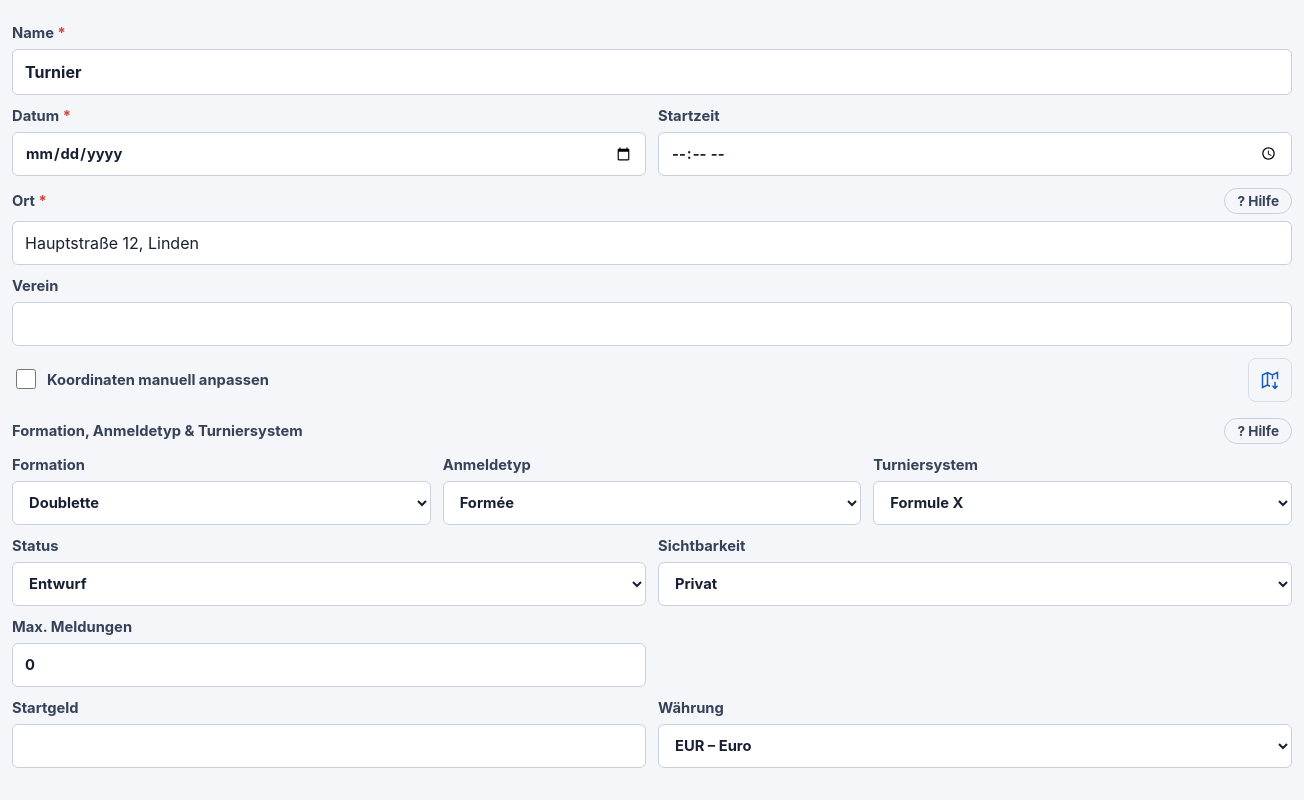
Test case: Turnierort in einem Suchfeld › übernimmt Platz und Koordinaten und löst die Auswahl bei neuer Eingabe (create)
This screenshot has width=1304, height=800.
Replace the text in the dropdown labelled "Ort *" with "Linden Halle" at (652, 243), box 12,221 -> 1292,265
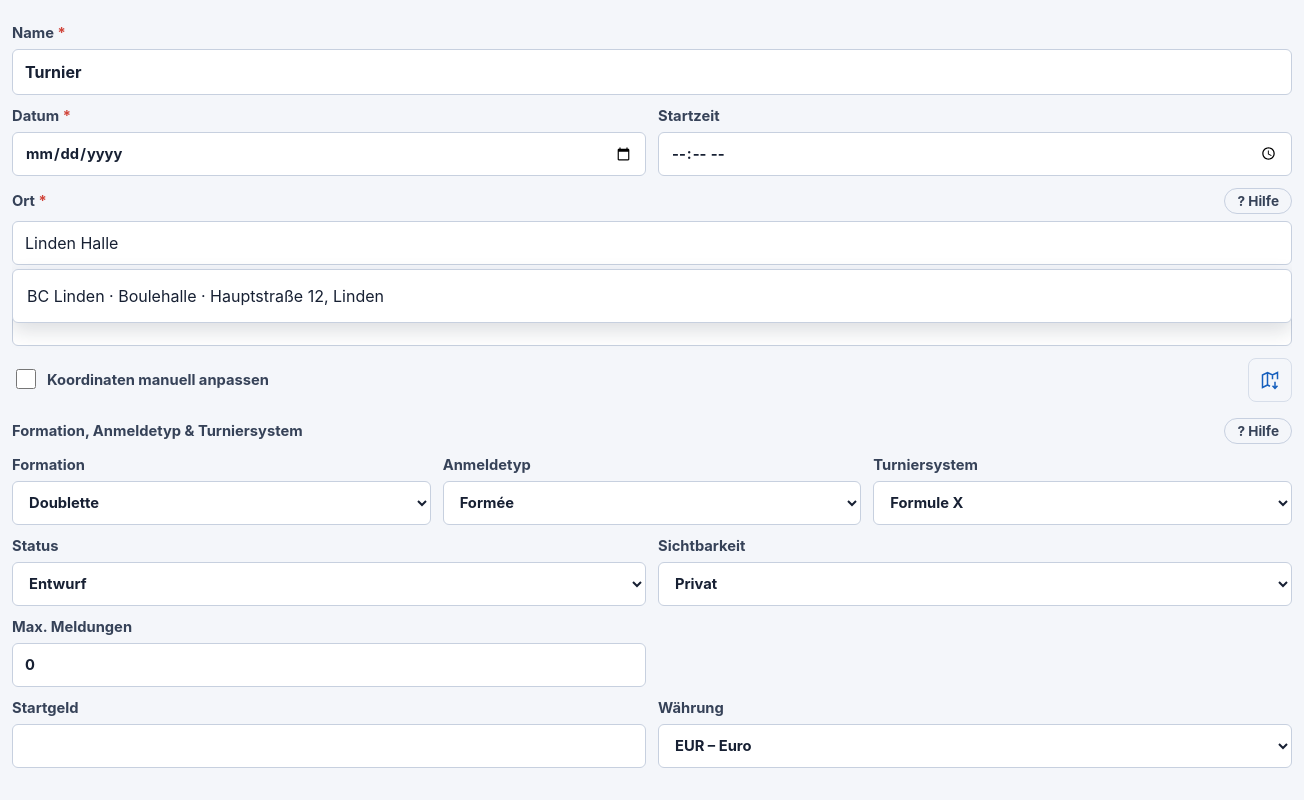
Click the option "BC Linden · Boulehalle · Hauptstraße 12, Linden".
click(206, 296)  # box 17,274 -> 1287,318
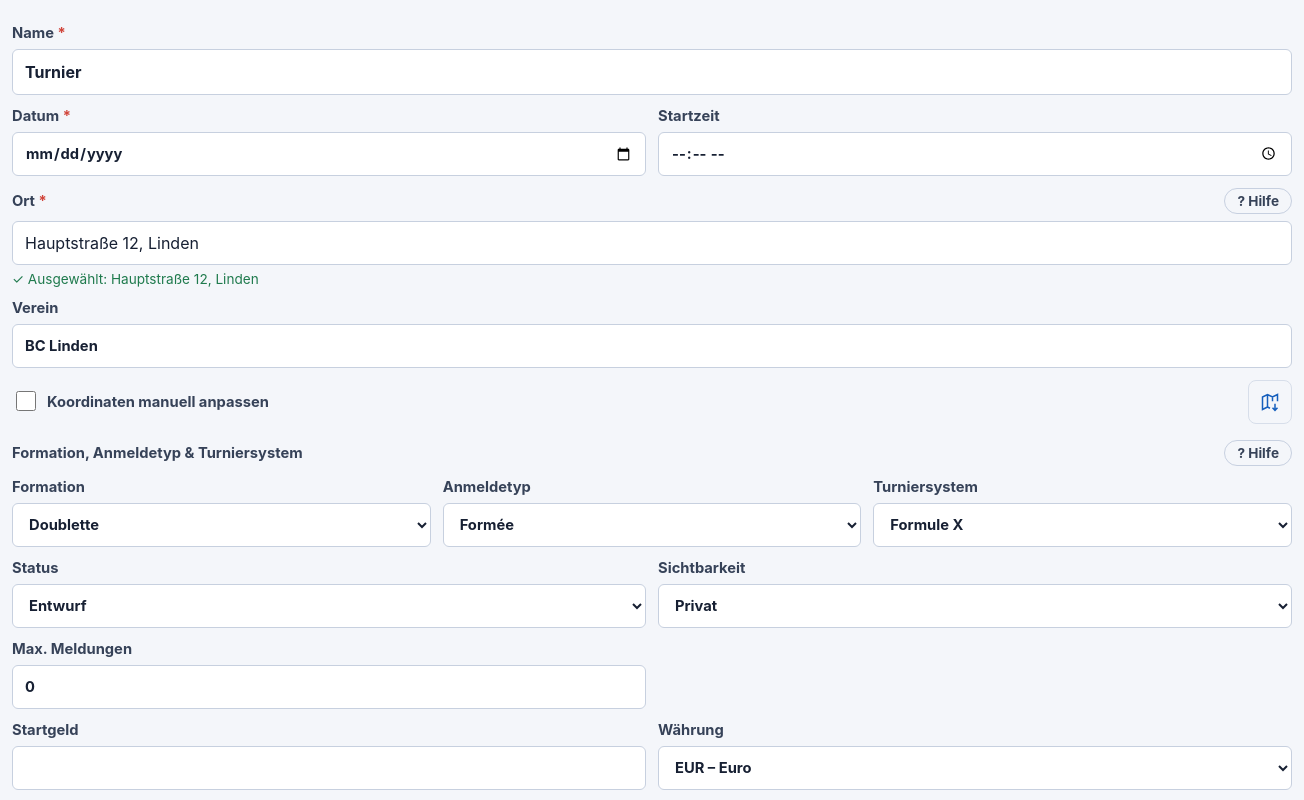
Check: the dropdown labelled "Ort *" holds "Hauptstraße 12, Linden", box 12,221 -> 1292,265
